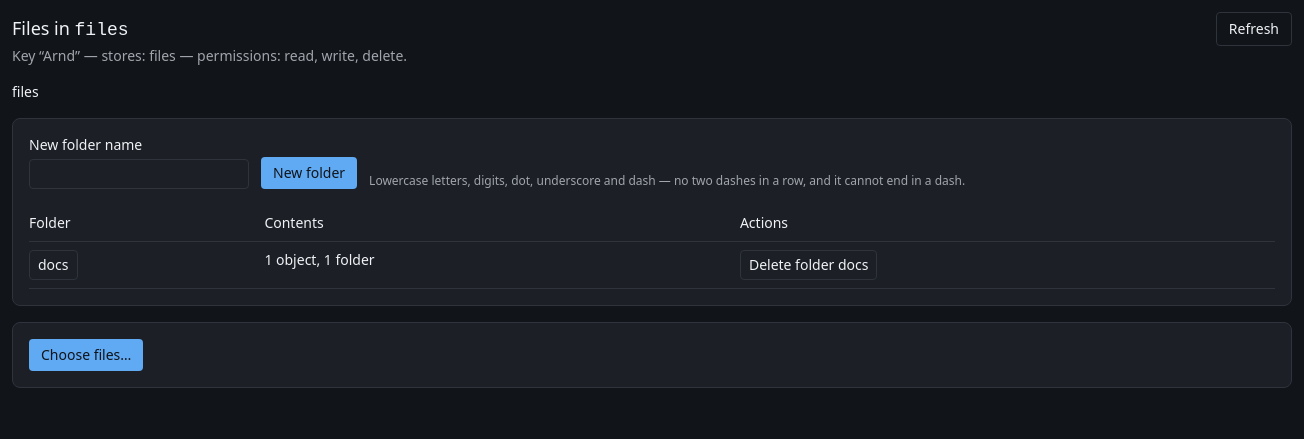
the breadcrumb names every ancestor and clicking one navigates there
Click the button "docs" at (53, 265), box [29,250,78,280]
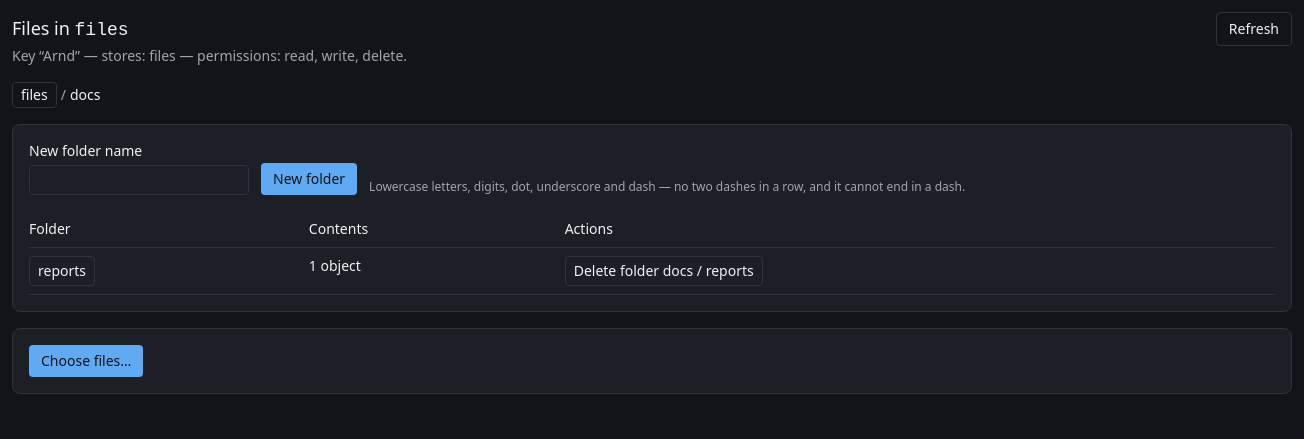
Click the button "reports" at (62, 271), box [29,256,95,286]
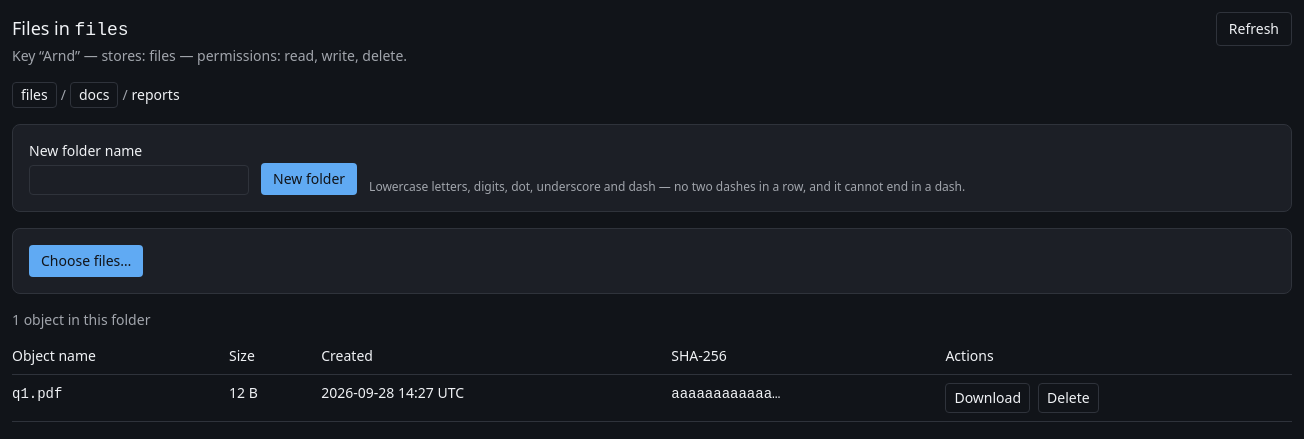
Expected: the navigation bar named "Folder path" shows "files", [12,82,57,108]
Now the navigation bar named "Folder path" shows "docs"
Now the navigation bar named "Folder path" shows "reports", box [132,85,180,104]
Click the button "docs" at (94, 95), box [70,82,118,108]
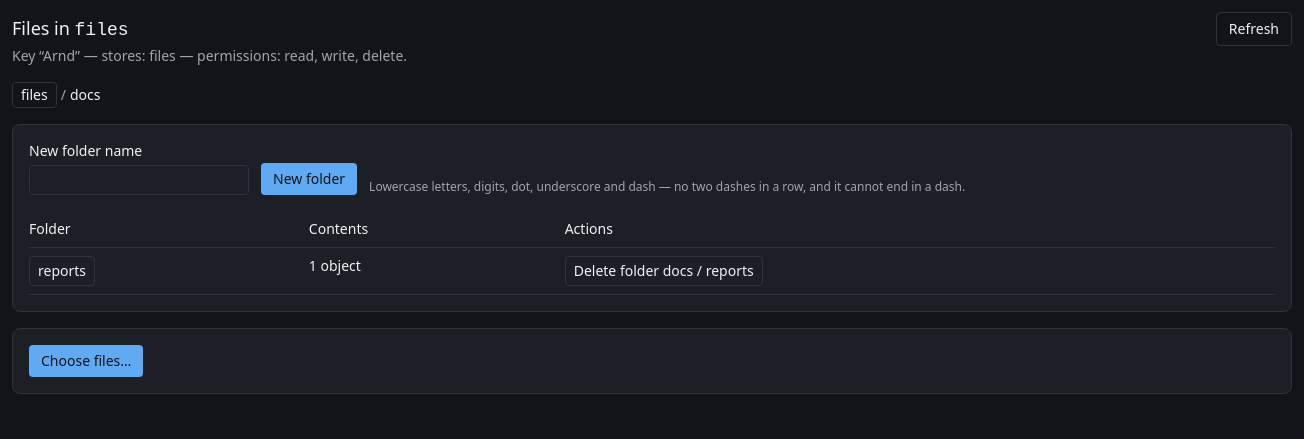
Now the button "reports" is shown, box [29,256,95,286]
